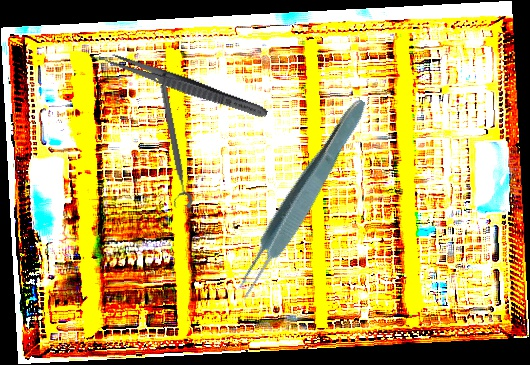Dressing Forceps: (103, 50, 270, 122)
Fixation Ring: (150, 83, 194, 211)
Tissue Forceps: (226, 92, 375, 305)
